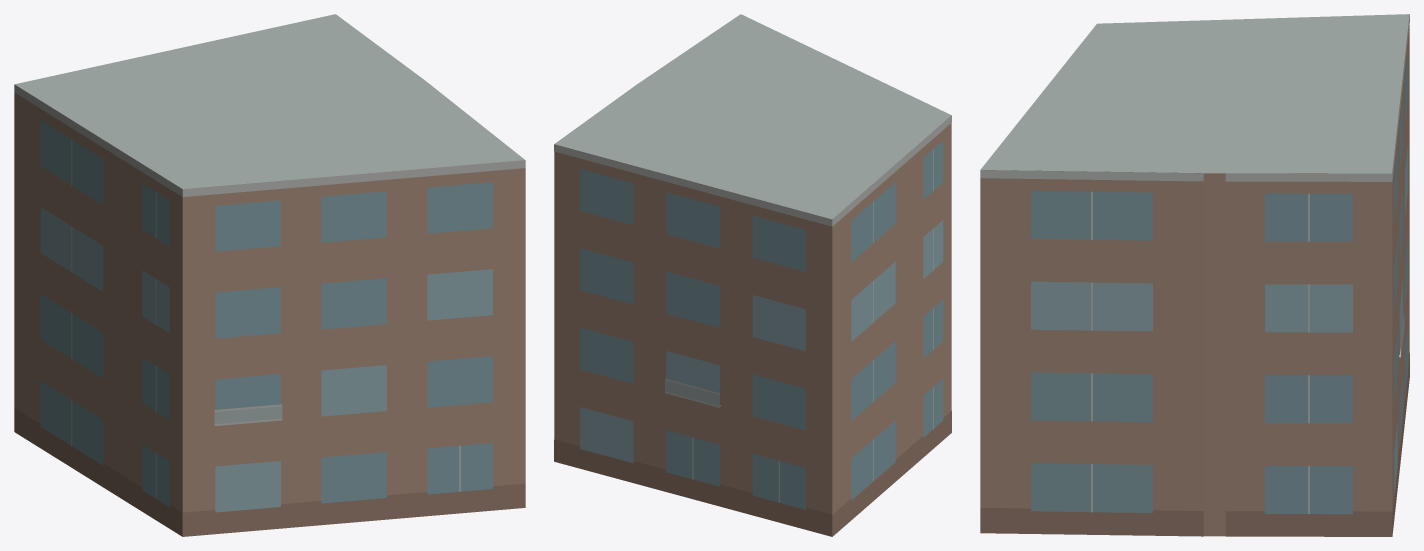
Rendered from survey-upis-32955826.glb.
3 views of the same model, side by side, from view 1: azimuth 30°, elevation 25°; view 2: azimuth 150°, elevation 25°; view 3: azimuth 270°, elevation 25° (orthographic). The views are drawn at different scales.
Visible parts, largest first — view 1: survey-upis-32955826.tmp; view 2: survey-upis-32955826.tmp; view 3: survey-upis-32955826.tmp.
Boxes of the visible parts, x1=… form: survey-upis-32955826.tmp: x1=14, y1=14, x2=525, y2=536; survey-upis-32955826.tmp: x1=554, y1=14, x2=951, y2=536; survey-upis-32955826.tmp: x1=980, y1=14, x2=1409, y2=536.
Size of the model in its own units: 10.04 by 10.65 by 11.42.
